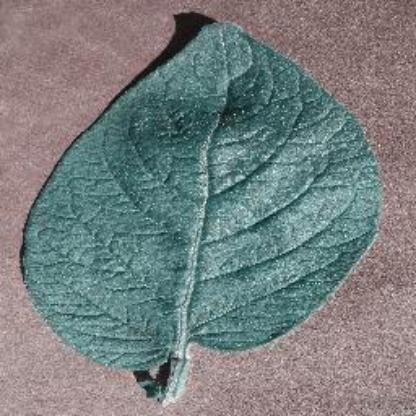Healthy-plant: (22, 12, 400, 408)
